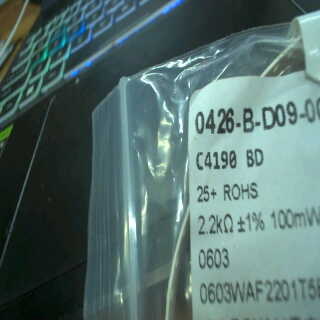2.2kR: (192, 211, 238, 237)
